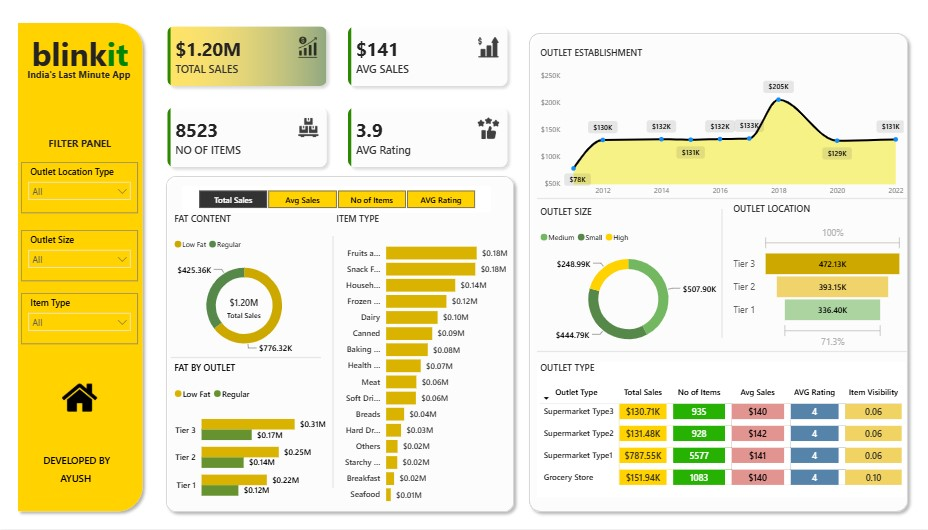

This screenshot's page, from the dashboard's own definition file:
{"tool":"powerbi","page":{"name":"Page 1","canvas":[1400,800],"ordinal":0},"visuals":[{"type":"shape","box":[19,30.7,205.8,753.3],"z":0},{"type":"textbox","box":[38.6,45.9,165.4,77.2],"z":1000},{"type":"textbox","box":[27.1,102.4,186.7,37.6],"z":2000},{"type":"cardVisual","fields":{"Data":["BlinkIT Grocery Data.Total Sales","BlinkIT Grocery Data.Avg Sales","BlinkIT Grocery Data.No of Items","BlinkIT Grocery Data.AVG Rating"]},"box":[224.3,15.1,570,270],"z":3000},{"type":"shape","box":[242.4,260.4,541.9,523.9],"z":4000},{"type":"donutChart","title":"FAT CONTENT","fields":{"Y":["BlinkIT Grocery Data.Total Sales"],"Category":["BlinkIT Grocery Data.Item Fat Content"]},"box":[258.4,325.5,220.4,223.4],"z":5000},{"type":"slicer","fields":{"Values":["Metrics.Metrics"]},"box":[275.5,284.5,465.2,40],"z":6000},{"type":"cardVisual","fields":{"Data":["BlinkIT Grocery Data.Total Sales"]},"box":[307.1,427.5,123.4,82.8],"z":7000},{"type":"clusteredBarChart","title":"FAT BY OUTLET","fields":{"Y":["BlinkIT Grocery Data.Total Sales"],"Category":["BlinkIT Grocery Data.Outlet Location Type"],"Series":["BlinkIT Grocery Data.Item Fat Content"]},"box":[258.4,548.9,238,224.8],"z":8000},{"type":"shape","box":[258.4,535.8,225.8,13.5],"z":9000},{"type":"shape","box":[496.8,359.8,12,379.4],"z":10000},{"type":"barChart","title":"ITEM TYPE","fields":{"Y":["BlinkIT Grocery Data.Total Sales"],"Category":["BlinkIT Grocery Data.Item Type"]},"box":[502.8,325.2,268,448.6],"z":11000},{"type":"shape","box":[788.3,45.3,588.3,738.7],"z":12000},{"type":"lineChart","title":"OUTLET ESTABLISHMENT","fields":{"Y":["BlinkIT Grocery Data.Total Sales"],"Category":["BlinkIT Grocery Data.Outlet Establishment Year"]},"box":[809.9,75.3,557,234.8],"z":13000},{"type":"shape","box":[809.9,298.1,557,10.5],"z":14000},{"type":"donutChart","title":"OUTLET SIZE ","fields":{"Y":["BlinkIT Grocery Data.Total Sales"],"Category":["BlinkIT Grocery Data.Outlet Size"]},"box":[809.9,314.6,275,225],"z":15000},{"type":"shape","box":[1082.4,319.1,12,194.2],"z":16000},{"type":"funnel","title":"OUTLET LOCATION","fields":{"Y":["Sum(BlinkIT Grocery Data.Sales)"],"Category":["BlinkIT Grocery Data.Outlet Location Type"]},"box":[1100.4,310.1,264.9,224.3],"z":17000},{"type":"shape","box":[809.9,528.4,557,10.5],"z":18000},{"type":"pivotTable","title":"OUTLET TYPE","fields":{"Rows":["BlinkIT Grocery Data.Outlet Type"],"Values":["BlinkIT Grocery Data.Total Sales","BlinkIT Grocery Data.No of Items","BlinkIT Grocery Data.Avg Sales","BlinkIT Grocery Data.AVG Rating","Avg(BlinkIT Grocery Data.Item Visibility)"]},"box":[809.9,549.5,555.5,203.2],"z":19000},{"type":"slicer","fields":{"Values":["BlinkIT Grocery Data.Outlet Location Type"]},"box":[33.1,248.4,176.1,76.8],"z":20000},{"type":"slicer","fields":{"Values":["BlinkIT Grocery Data.Outlet Size"]},"box":[33.1,350.8,176.1,76.8],"z":21000},{"type":"slicer","fields":{"Values":["BlinkIT Grocery Data.Item Type"]},"box":[33.1,445.6,176.1,76.8],"z":22000},{"type":"textbox","title":"FILTER PANEL","box":[61.3,208.8,119.7,20.4],"z":23000},{"type":"textbox","title":"DEVELOPED BY","box":[61.7,686.5,111.4,27.1],"z":24000},{"type":"textbox","title":"AYUSH ","box":[87.3,713.5,60.2,25.6],"z":25000},{"type":"image","box":[94.8,576.6,52.7,52.7],"z":26000}]}

Visuals, with their boxes in screenshot pixels (x1, y1, x2, y2), scaled from the page's 1400x800 canvas onto the 928x530 screenshot:
shape: 13:20:149:519
textbox: 26:30:135:82
textbox: 18:68:142:93
cardVisual - BlinkIT Grocery Data.Total Sales x BlinkIT Grocery Data.Avg Sales: 149:10:527:189
shape: 161:173:520:520
"FAT CONTENT" donutChart: 171:216:317:364
slicer - Metrics.Metrics: 183:188:491:215
cardVisual - BlinkIT Grocery Data.Total Sales: 204:283:285:338
"FAT BY OUTLET" clusteredBarChart: 171:364:329:513
shape: 171:355:321:364
shape: 329:238:337:490
"ITEM TYPE" barChart: 333:215:511:513
shape: 523:30:912:519
"OUTLET ESTABLISHMENT" lineChart: 537:50:906:205
shape: 537:197:906:204
"OUTLET SIZE " donutChart: 537:208:719:357
shape: 717:211:725:340
"OUTLET LOCATION" funnel: 729:205:905:354
shape: 537:350:906:357
"OUTLET TYPE" pivotTable: 537:364:905:499
slicer - BlinkIT Grocery Data.Outlet Location Type: 22:165:139:215
slicer - BlinkIT Grocery Data.Outlet Size: 22:232:139:283
slicer - BlinkIT Grocery Data.Item Type: 22:295:139:346
"FILTER PANEL" textbox: 41:138:120:152
"DEVELOPED BY" textbox: 41:455:115:473
"AYUSH " textbox: 58:473:98:490
image: 63:382:98:417
